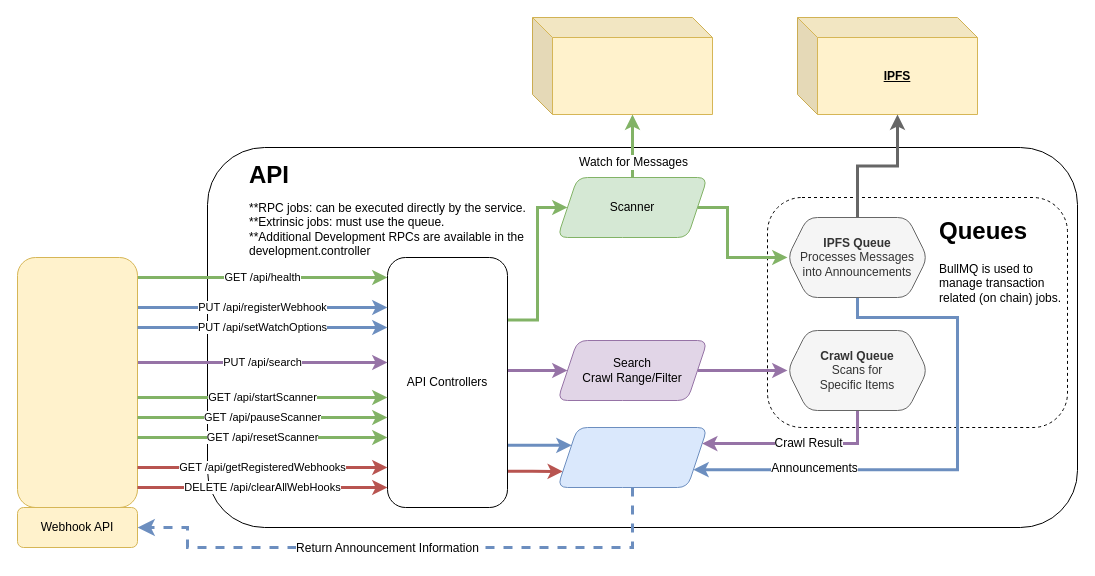
This 1095x576 diagram has some shape labels left out. The shapes that lost their labels are listed below. From the top down, each one's centre as x and y in pixels, then its label:
the point at 622,65: Frequency Chain
the point at 77,382: Provider Backend
the point at 632,457: Pubsub Service
